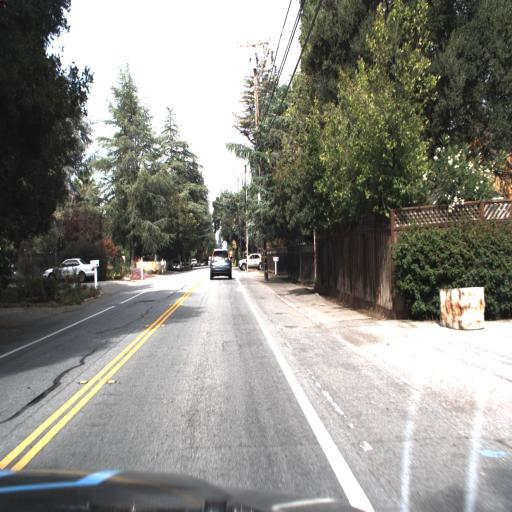car: (43, 255, 99, 284), (208, 247, 233, 283), (237, 251, 262, 272)
